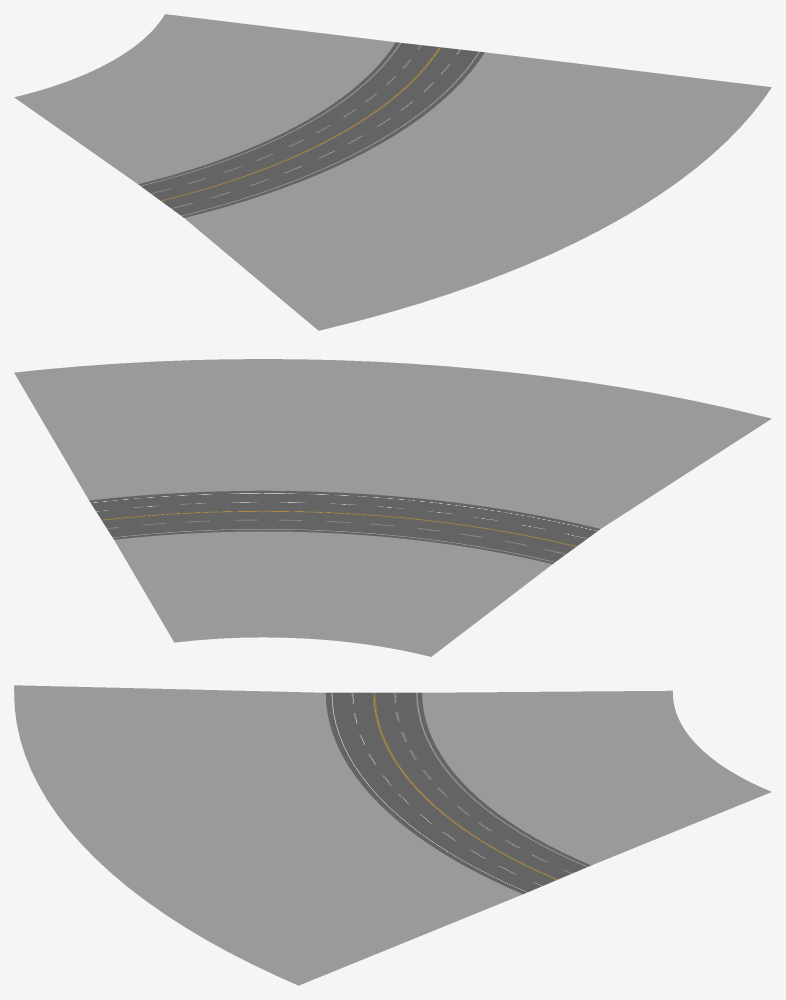
The model's file is Big_turn.fbx.
3 renders of one model, top to bottom at view 1: azimuth 30°, elevation 25°; view 2: azimuth 150°, elevation 25°; view 3: azimuth 270°, elevation 25°, orthographic. The views are drawn at different scales.
Visible parts, largest first — view 1: polySurface48, polySurface47, polySurface49; view 2: polySurface48, polySurface47, polySurface49; view 3: polySurface48, polySurface47, polySurface49.
Boxes of the visible parts, x1,y1,x2,y2 form: polySurface48: (184,52,771,330); polySurface47: (14,14,395,183); polySurface49: (138,42,484,217); polySurface48: (14,359,771,528); polySurface47: (114,531,552,656); polySurface49: (89,490,600,563); polySurface48: (14,685,522,985); polySurface47: (422,690,771,865); polySurface49: (325,692,590,894).
Bounding box in the file's own units: 14507 × 0.000183 × 15469.
